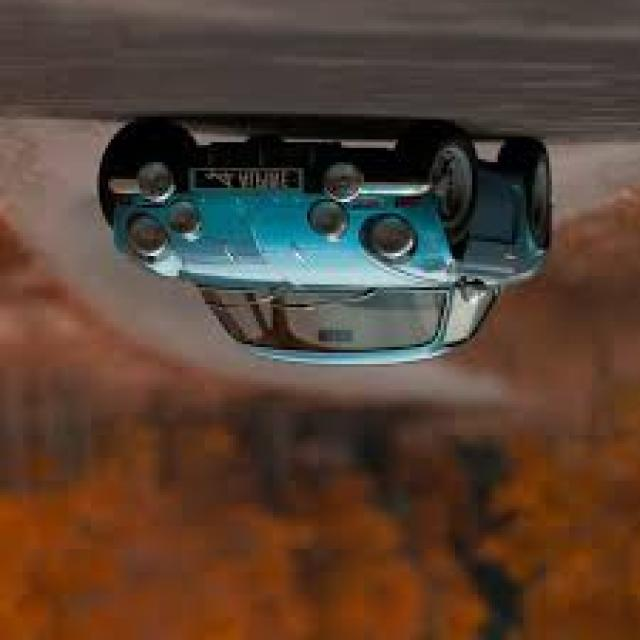Car: (97, 119, 552, 370)
